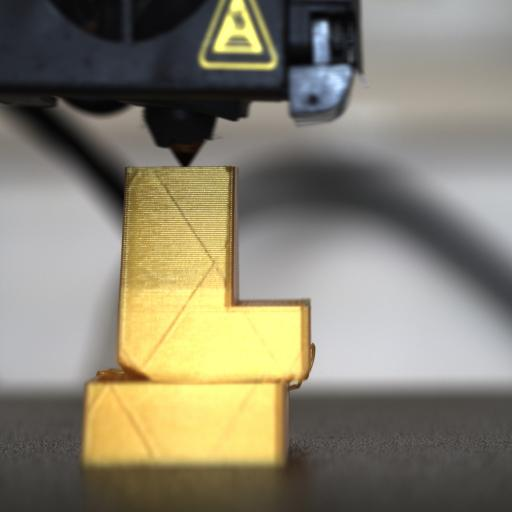layer_shift: (81, 357, 312, 391)
